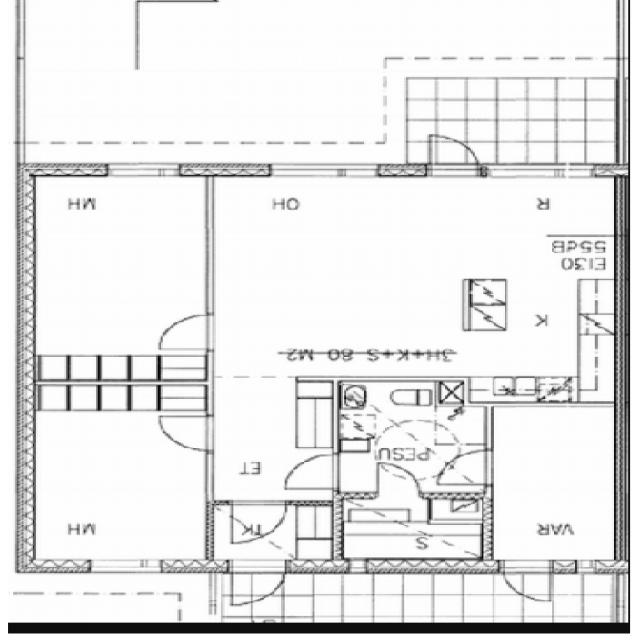door: (232, 559, 286, 612), (501, 559, 552, 609), (429, 127, 480, 176), (232, 501, 287, 544), (435, 449, 495, 484), (156, 315, 214, 350), (156, 416, 214, 450), (285, 454, 339, 488), (377, 459, 423, 498)
